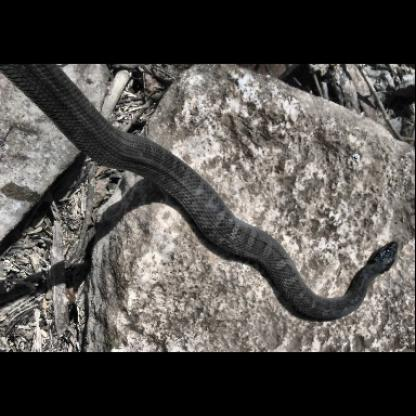Snake: (11, 63, 403, 329)
